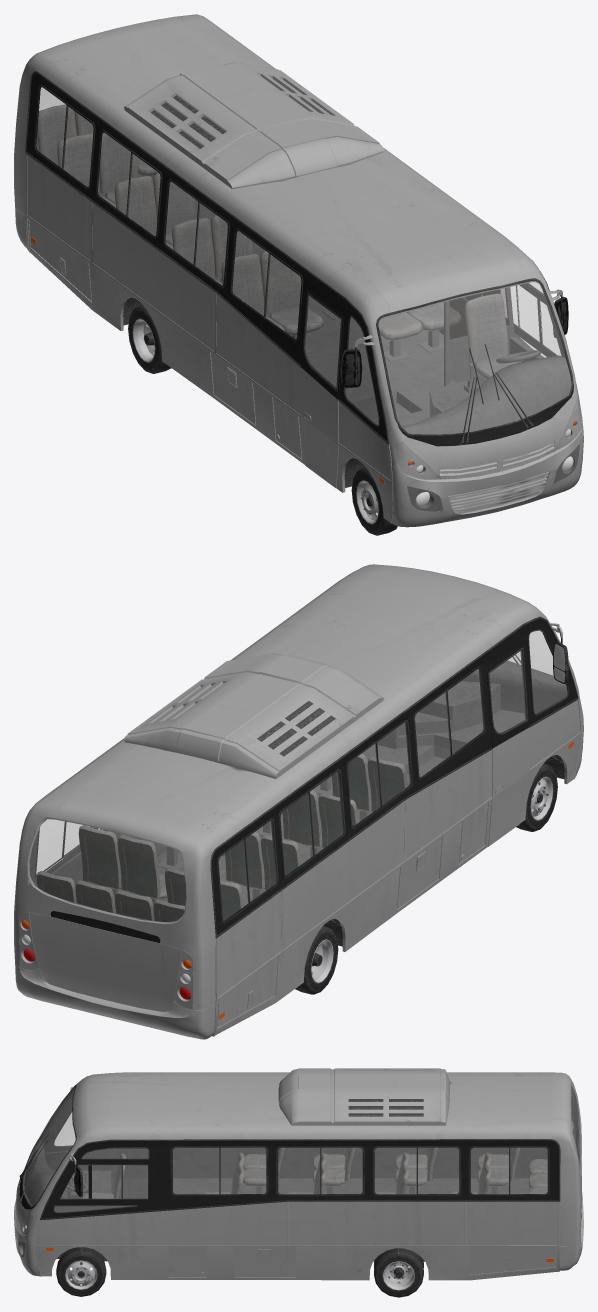
The model's file is ski_bus_micruss.glb.
3 renders of one model, top to bottom at view 1: azimuth 30°, elevation 25°; view 2: azimuth 150°, elevation 25°; view 3: azimuth 270°, elevation 25°, orthographic. The views are drawn at different scales.
Visible parts, largest first — view 1: BusBody, Windows, Seats, BlackStuff, Details, InteriorDiv, Tireback_low.001, Tire_low.001, Mirrors, Wipers; view 2: BusBody, Windows, Seats, BlackStuff, Details, Tireback_low.001, Tire_low.001, Mirrors; view 3: BusBody, Windows, BlackStuff, Details, Seats, Tireback_low, Tire_low.
Boxes of the visible parts, x1,y1,x2,y2 form: BusBody: (14, 14, 583, 527); Windows: (36, 87, 571, 434); Seats: (37, 104, 517, 379); BlackStuff: (36, 95, 571, 487); Details: (25, 71, 573, 523); InteriorDiv: (444, 287, 514, 386); Tireback_low.001: (128, 305, 171, 373); Tire_low.001: (351, 467, 397, 535); Mirrors: (341, 296, 568, 388); Wipers: (460, 344, 533, 444); BusBody: (14, 564, 583, 1039); Windows: (28, 630, 567, 923); Seats: (36, 754, 407, 921); BlackStuff: (29, 639, 567, 946); Details: (35, 616, 581, 1036); Tireback_low.001: (295, 926, 338, 994); Tire_low.001: (516, 763, 557, 831); Mirrors: (553, 637, 568, 683); BusBody: (14, 1068, 583, 1280); Windows: (23, 1083, 581, 1211); BlackStuff: (23, 1085, 580, 1261); Details: (22, 1084, 560, 1276); Seats: (81, 1120, 573, 1198); Tireback_low: (374, 1248, 423, 1297); Tire_low: (56, 1247, 106, 1296).
Bounding box in the file's own units: 8.25 × 9 × 25.
16 materials, 16 textured.
